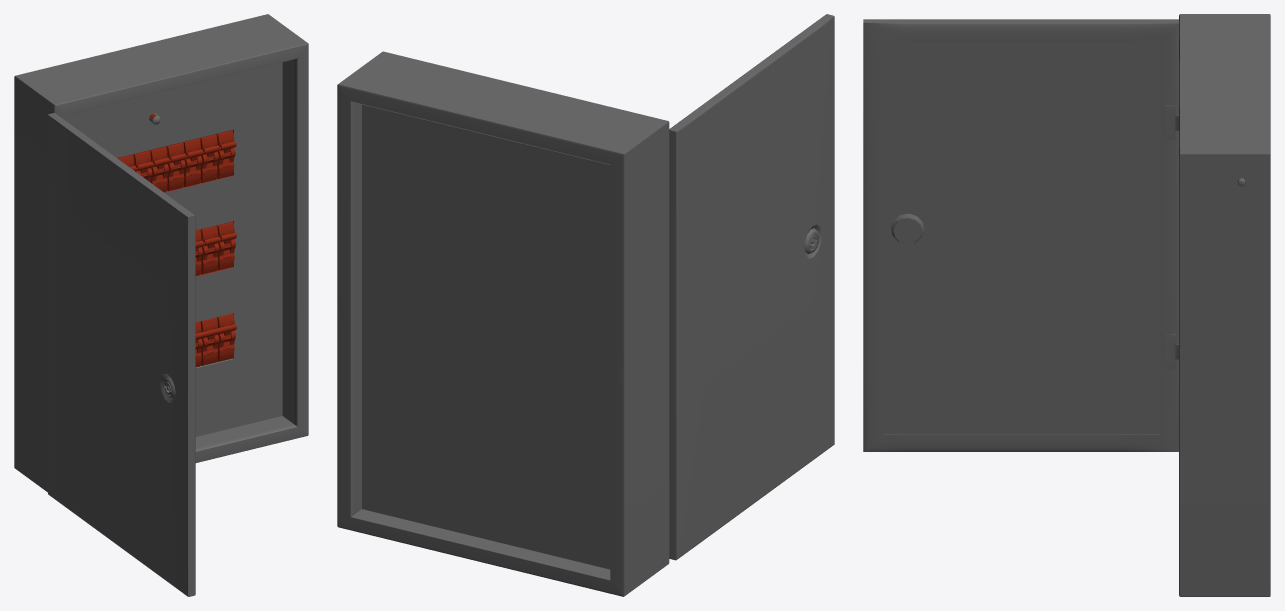
The model's file is panneau_electrique.fbx.
The picture shows the model from 3 angles, left to right: view 1: azimuth 30°, elevation 25°; view 2: azimuth 150°, elevation 25°; view 3: azimuth 270°, elevation 25°; orthographic projection. The views are drawn at different scales.
Parts seen in each view (by area): view 1: power_box_01_box, power_box_01_door; view 2: power_box_01_box, power_box_01_door; view 3: power_box_01_door, power_box_01_box.
Part boxes in pixels (x1=…): power_box_01_box: x1=14, y1=14, x2=308, y2=492; power_box_01_door: x1=48, y1=113, x2=195, y2=596; power_box_01_box: x1=337, y1=51, x2=669, y2=596; power_box_01_door: x1=669, y1=14, x2=834, y2=560; power_box_01_door: x1=863, y1=19, x2=1178, y2=451; power_box_01_box: x1=1179, y1=14, x2=1270, y2=596.
Bounding box in the file's own units: 246 × 348 × 290.
